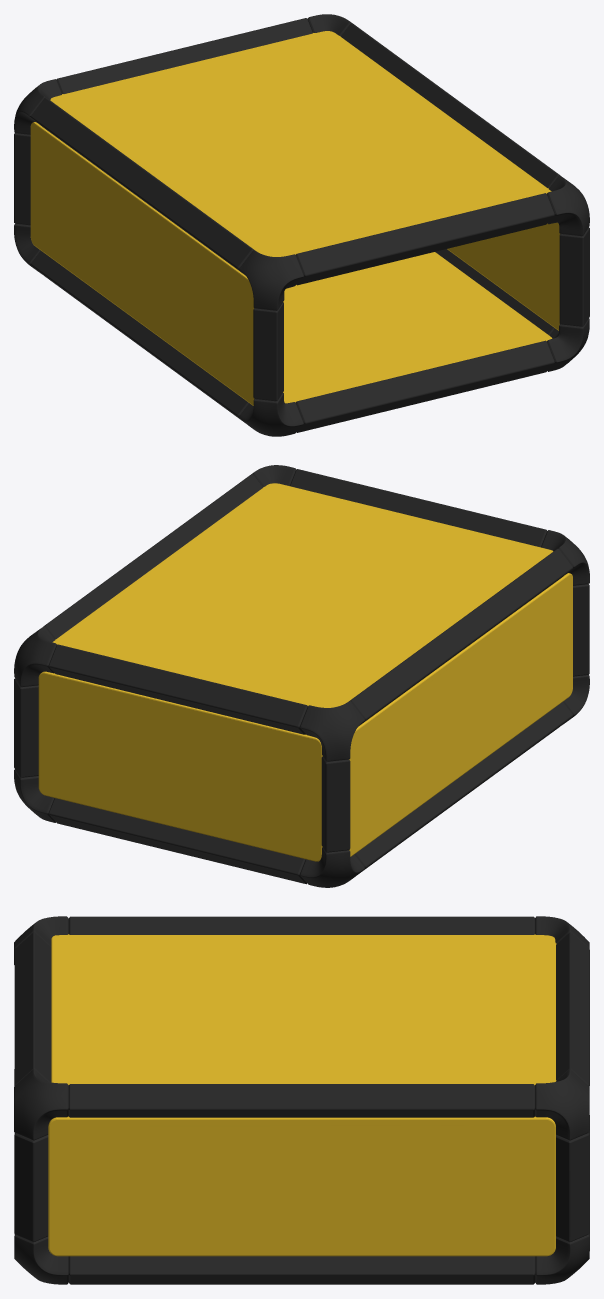
3 views of the same model, one above another, from view 1: azimuth 30°, elevation 25°; view 2: azimuth 150°, elevation 25°; view 3: azimuth 270°, elevation 25° (orthographic). The views are drawn at different scales.
Parts seen in each view (by area): view 1: 229x329x79; view 2: 229x329x79; view 3: 229x329x79.
Part boxes in pixels (bbox=[...]): 229x329x79: bbox=[14, 14, 589, 436]; 229x329x79: bbox=[14, 465, 589, 887]; 229x329x79: bbox=[14, 916, 589, 1284].
Size of the model in its own units: 0.3067 by 0.1566 by 0.4063.
